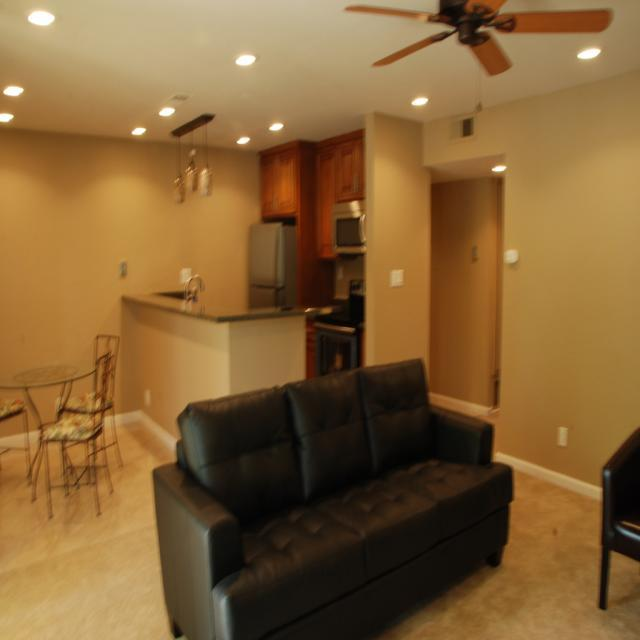bulb_on: (28, 9, 57, 28), (578, 46, 600, 64), (491, 163, 510, 180), (414, 98, 437, 112), (157, 105, 172, 122), (269, 122, 287, 136), (2, 85, 22, 97), (1, 112, 18, 126), (237, 137, 253, 151), (238, 55, 255, 67), (134, 128, 147, 140)
fan_off: (337, 1, 610, 74)
